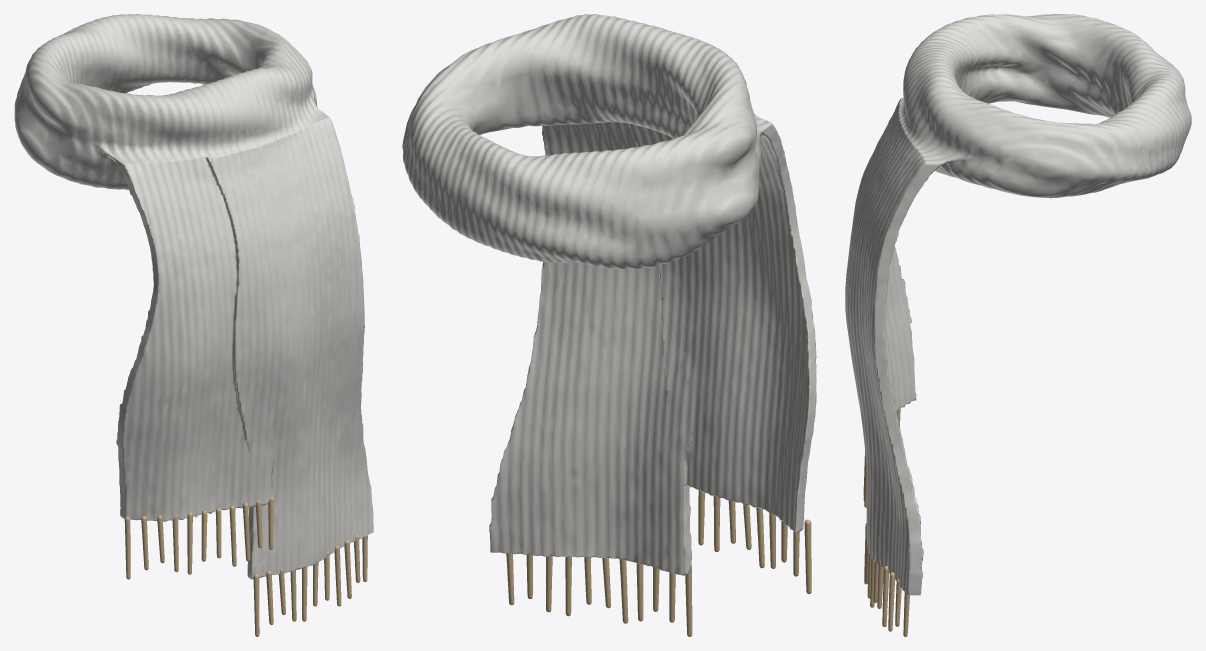
File: 06_bufanda.glb
3 renders of one model, left to right at view 1: azimuth 30°, elevation 25°; view 2: azimuth 150°, elevation 25°; view 3: azimuth 270°, elevation 25°, orthographic. The views are drawn at different scales.
Parts seen in each view (by area): view 1: body, trim; view 2: body, trim; view 3: body, trim.
Part boxes in pixels (box(x1,y1,x2,y2)): body: box(14, 14, 373, 579); trim: box(124, 496, 367, 636); body: box(402, 14, 816, 575); trim: box(506, 487, 811, 636); body: box(845, 14, 1191, 595); trim: box(863, 408, 909, 636).
Size of the model in its own units: 0.3082 by 0.5725 by 0.3397.
